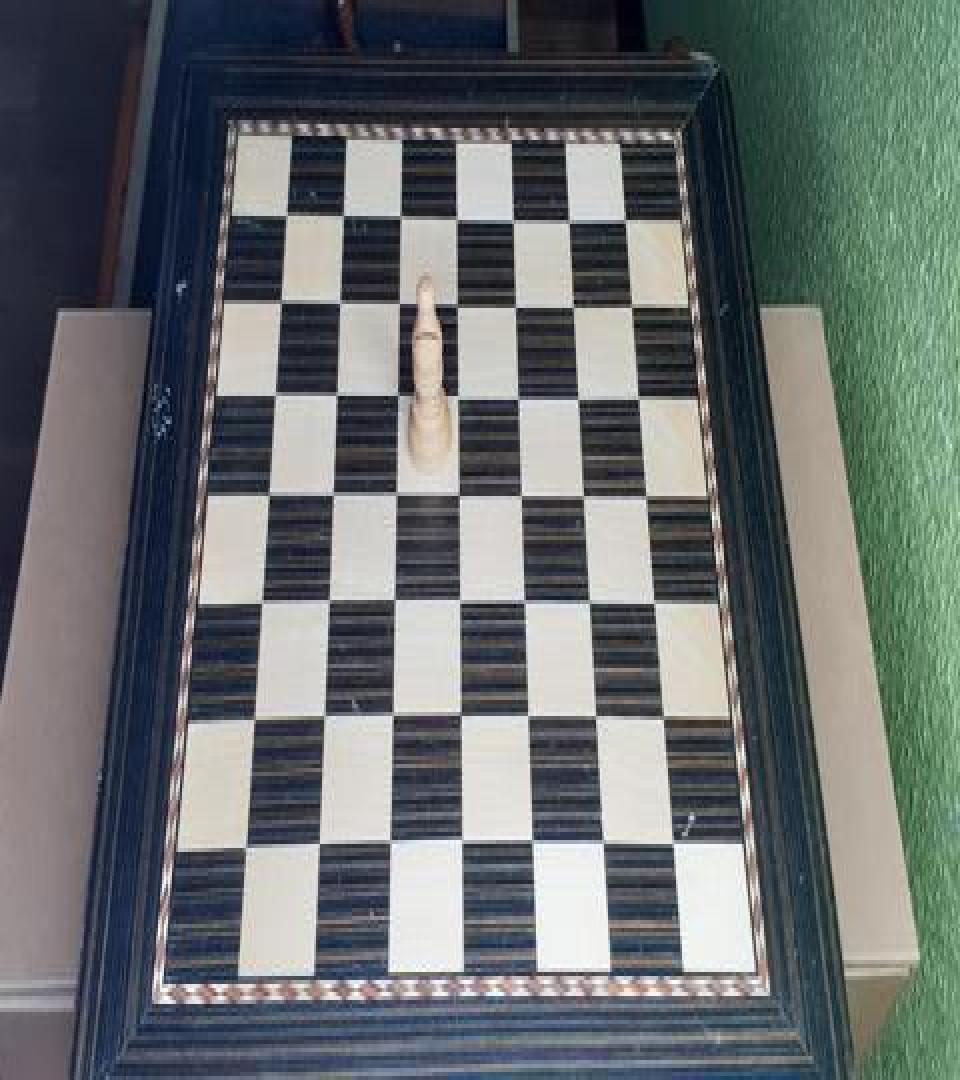xcorner: (274, 194, 292, 230), (269, 282, 287, 318), (263, 378, 281, 414), (257, 480, 275, 516), (251, 590, 269, 626), (244, 710, 262, 746), (236, 838, 254, 874), (332, 194, 350, 230), (329, 282, 347, 318), (326, 378, 344, 414), (322, 480, 340, 516), (318, 590, 336, 626), (314, 708, 332, 744), (309, 838, 327, 874), (390, 194, 408, 230), (389, 282, 407, 318), (388, 378, 406, 414), (387, 480, 405, 516), (385, 588, 403, 624), (384, 708, 402, 744), (382, 836, 400, 872), (448, 194, 466, 230), (449, 282, 467, 318), (450, 378, 468, 414), (451, 478, 469, 514), (452, 588, 470, 624), (454, 706, 472, 742), (455, 834, 473, 870), (506, 194, 524, 230), (509, 282, 527, 318), (512, 376, 530, 412), (515, 478, 533, 514), (519, 588, 537, 624), (523, 706, 541, 742), (527, 834, 545, 870), (564, 194, 582, 230), (569, 282, 587, 318), (574, 376, 592, 412), (579, 478, 597, 514), (585, 588, 603, 624), (592, 704, 610, 740), (599, 832, 617, 868), (621, 194, 639, 230), (628, 282, 646, 318), (635, 376, 653, 412), (643, 478, 661, 514), (652, 586, 670, 622), (661, 704, 679, 740), (671, 832, 689, 868)
